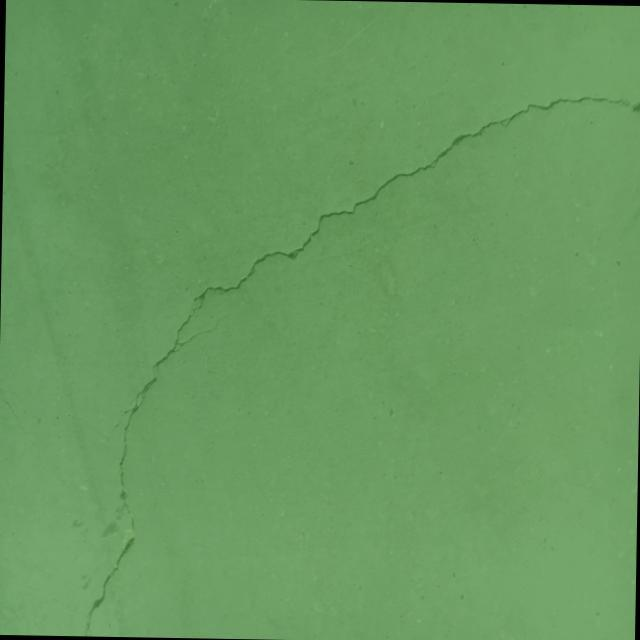crack: (62, 87, 640, 640), (0, 387, 23, 428)
